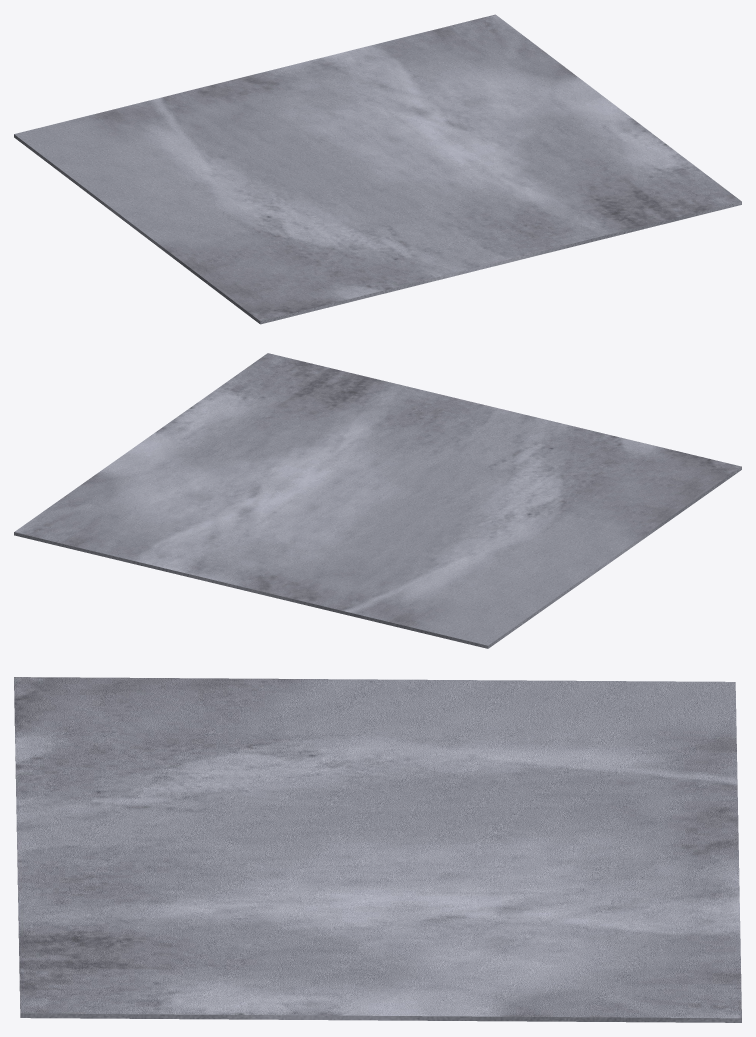
The model's file is frl_apartment_rug_02.glb.
3 views of the same model, one above another, from view 1: azimuth 30°, elevation 25°; view 2: azimuth 150°, elevation 25°; view 3: azimuth 270°, elevation 25° (orthographic). The views are drawn at different scales.
Parts seen in each view (by area): view 1: frl_apartment_rug_02; view 2: frl_apartment_rug_02; view 3: frl_apartment_rug_02.
Boxes of the visible parts, bbox=[...] form: frl_apartment_rug_02: bbox=[14, 14, 741, 324]; frl_apartment_rug_02: bbox=[14, 353, 741, 648]; frl_apartment_rug_02: bbox=[14, 677, 741, 1022].
Bounding box in the file's own units: 2.79 × 0.0176 × 2.51.
Materials: 1 (1 with a texture image).
